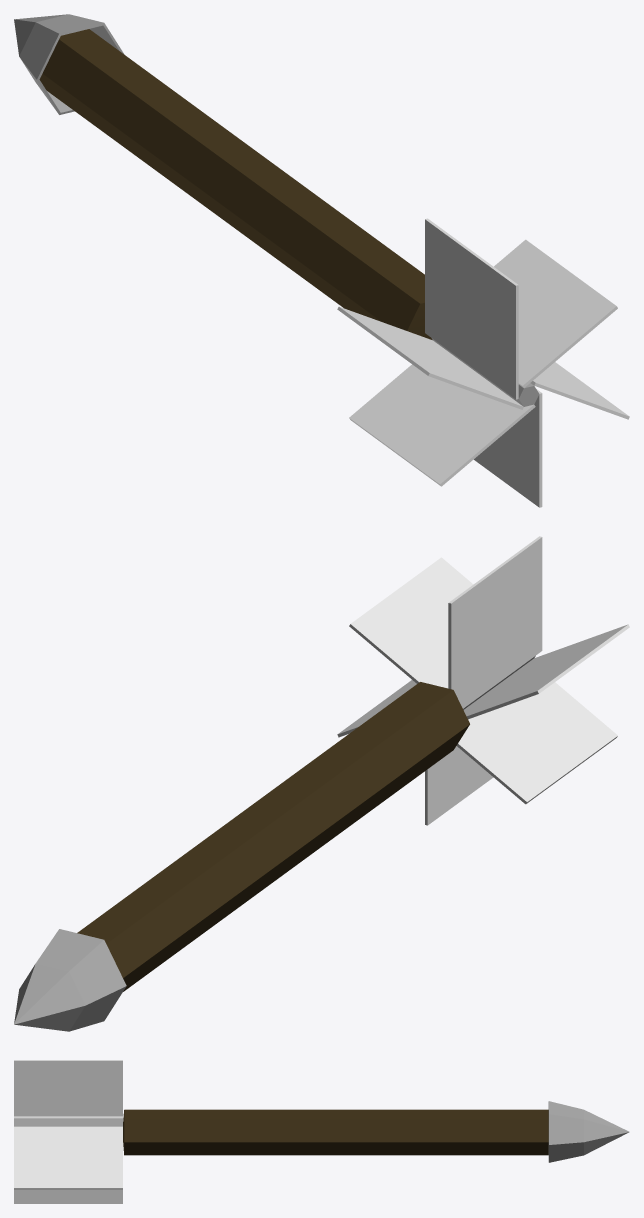
The model's file is Arrow.fbx.
The picture shows the model from 3 angles, top to bottom: view 1: azimuth 30°, elevation 25°; view 2: azimuth 150°, elevation 25°; view 3: azimuth 270°, elevation 25°; orthographic projection. The views are drawn at different scales.
Parts seen in each view (by area): view 1: arrow; view 2: arrow; view 3: arrow.
Part boxes in pixels (x1,y1,x2,y2): arrow: (14,14,629,507); arrow: (14,536,629,1031); arrow: (14,1060,629,1203).
Size of the model in its own units: 0.6057 by 0.6535 by 2.68.
